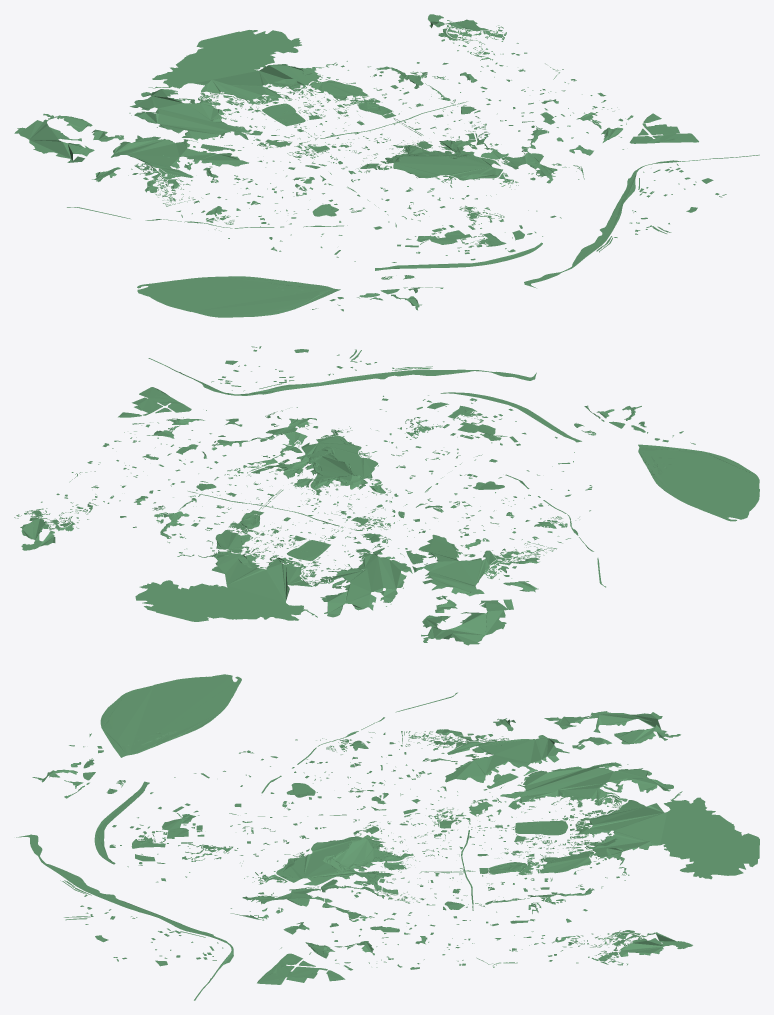
Rendered from green.glb.
The picture shows the model from 3 angles, top to bottom: view 1: azimuth 30°, elevation 25°; view 2: azimuth 150°, elevation 25°; view 3: azimuth 270°, elevation 25°; orthographic projection. The views are drawn at different scales.
Visible parts, largest first — view 1: green; view 2: green; view 3: green.
Boxes of the visible parts, x1,y1,x2,y2 form: green: (14, 14, 759, 317); green: (14, 346, 759, 645); green: (16, 674, 759, 1000).
Bounding box in the file's own units: 12514 × 269 × 12088.
